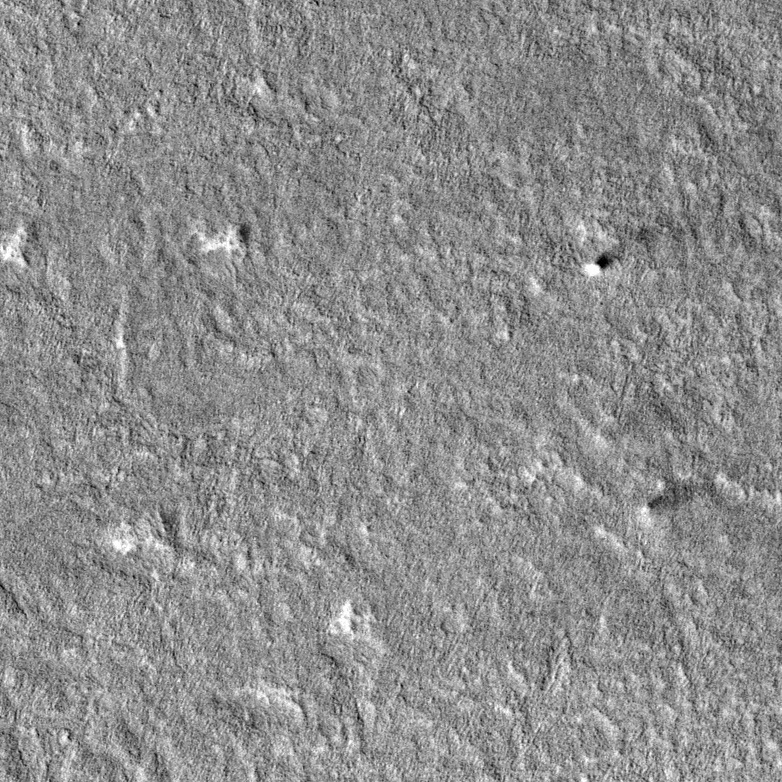dust_devil: (639, 483, 695, 516), (583, 243, 627, 278)
